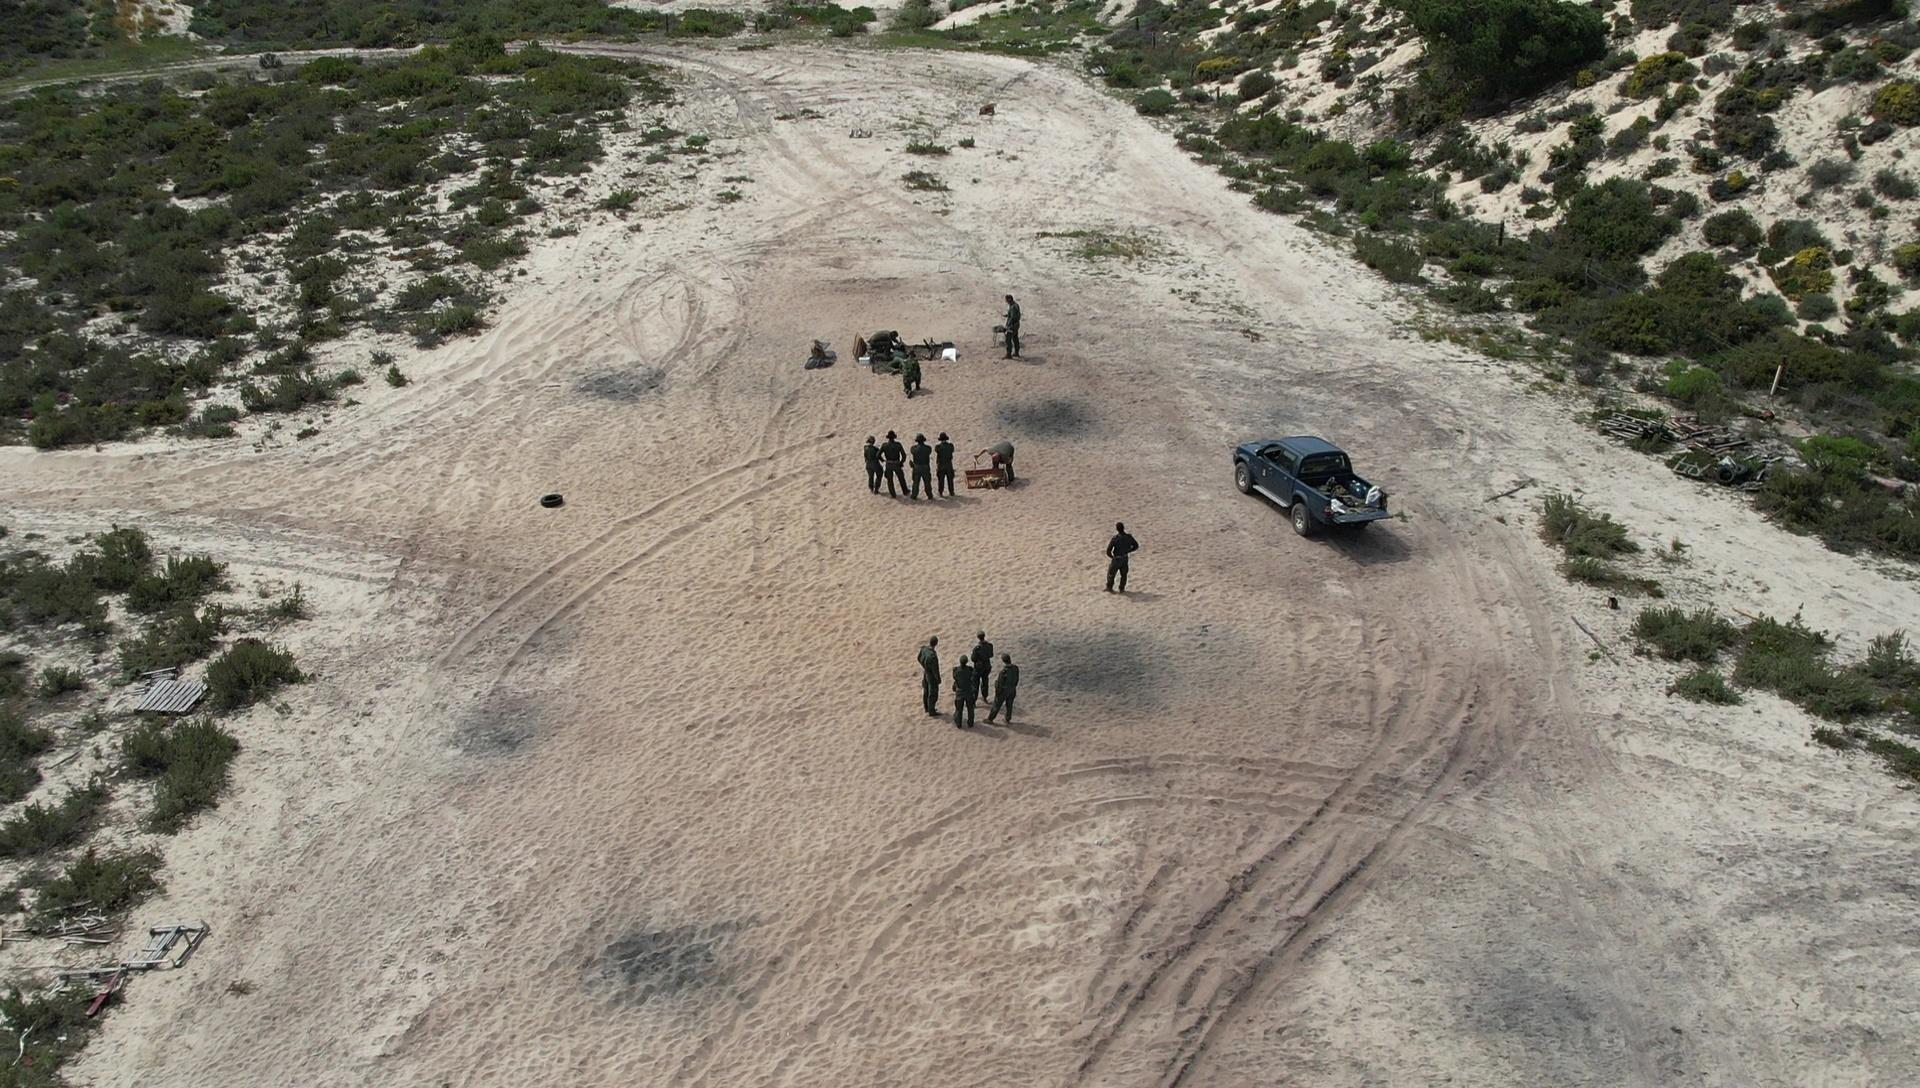Soldier: (1100, 516, 1143, 603), (981, 649, 1025, 735), (926, 429, 961, 520), (978, 434, 1025, 502), (996, 291, 1034, 373), (914, 633, 948, 724), (952, 654, 985, 731), (909, 429, 938, 510), (881, 426, 909, 510), (865, 433, 899, 497), (969, 624, 996, 706), (895, 335, 926, 400), (870, 318, 902, 378), (880, 327, 909, 382)
